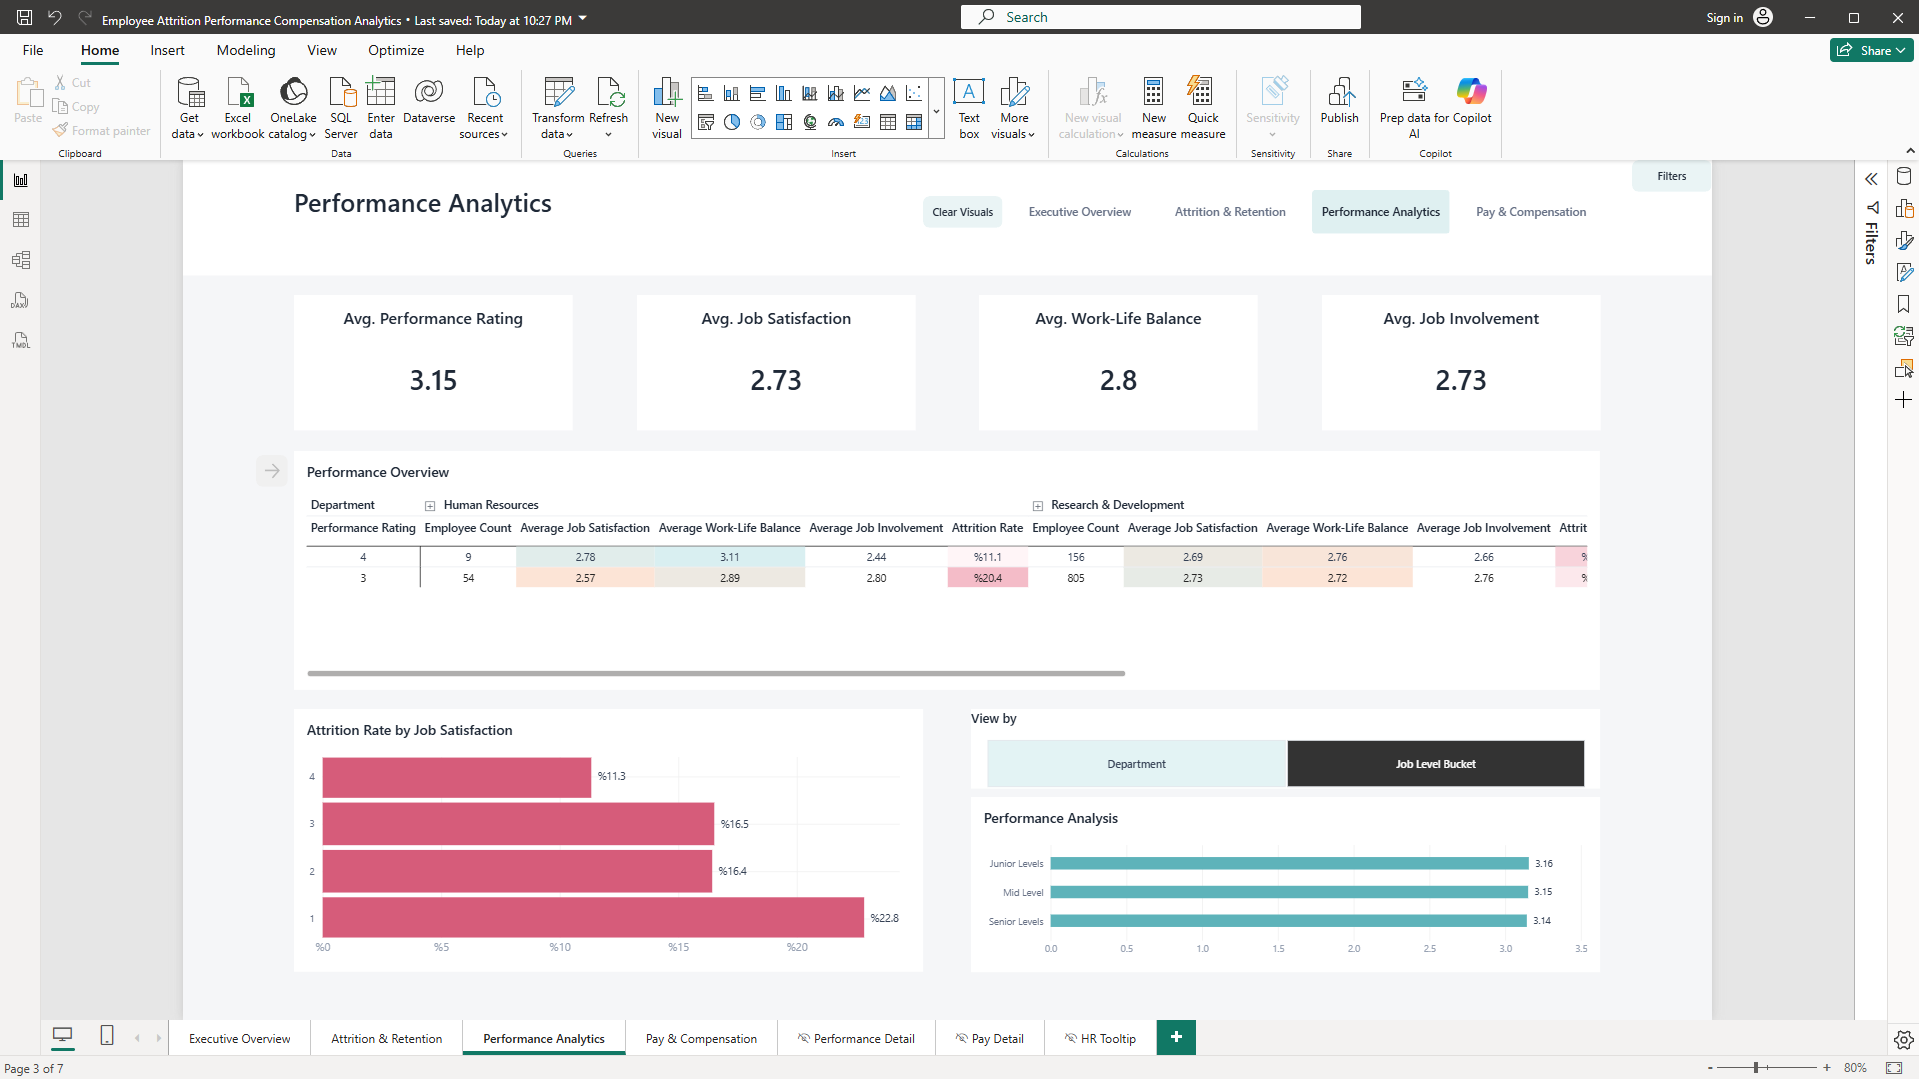

What the dashboard file says about the page in this screenshot:
{"tool":"powerbi","page":{"name":"Performance Analytics","canvas":[1920,1080],"ordinal":2},"visuals":[{"type":"shape","box":[0,0,1920,145],"z":0},{"type":"card","title":"Avg. Performance Rating","fields":{"Values":["Measure Table.Average Performance Rating"]},"box":[140,170,350,170],"z":1000},{"type":"card","title":"Avg. Job Satisfaction","fields":{"Values":["Measure Table.Average Job Satisfaction"]},"box":[570,170,350,170],"z":2000},{"type":"card","title":"Avg. Work-Life Balance","fields":{"Values":["Measure Table.Average Work-Life Balance"]},"box":[1000,170,350,170],"z":3000},{"type":"card","title":"Avg. Job Involvement","fields":{"Values":["Measure Table.Average Job Involvement"]},"box":[1430,170,350,170],"z":4000},{"type":"pivotTable","title":"Performance Overview","fields":{"Columns":["Employee Data.Department","Employee Data.Job Level Bucket"],"Rows":["Employee Data.Performance Rating"],"Values":["Measure Table.Employee Count","Measure Table.Average Job Satisfaction","Measure Table.Average Work-Life Balance","Measure Table.Average Job Involvement","Measure Table.Attrition Rate"]},"box":[140,365,1640,300],"z":5000},{"type":"clusteredBarChart","title":"Attrition Rate by Job Satisfaction","fields":{"Category":["Employee Data.Job Satisfaction"],"Y":["Measure Table.Attrition Rate"]},"box":[140,690,790,330],"z":6000},{"type":"clusteredBarChart","title":"Performance Analysis","fields":{"Category":["Employee Data.Job Level Bucket"],"Y":["Measure Table.Average Performance Rating"]},"box":[990,800,790,220],"z":7000},{"type":"textbox","box":[140,30,850,45],"z":8000},{"type":"pageNavigator","box":[1040,38,740,55],"z":9000},{"type":"slicer","title":"View by","fields":{"Values":["Performance Analysis.Performance Analysis"]},"box":[990,690,790,100],"z":10000},{"type":"actionButton","box":[92,371,40,40],"z":11000},{"type":"actionButton","box":[1820,0,100,40],"z":11001},{"type":"actionButton","box":[929,45,100,40],"z":11009}]}

Visuals, with their boxes on the page's 1920x1080 design canvas (x1, y1, x2, y2). These are canvas units, not pixel positions in the 1919x1079 screenshot, which may show the page scaled, cropped or inside an application window:
shape: Rect(0, 0, 1920, 145)
"Avg. Performance Rating" card: Rect(140, 170, 490, 340)
"Avg. Job Satisfaction" card: Rect(570, 170, 920, 340)
"Avg. Work-Life Balance" card: Rect(1000, 170, 1350, 340)
"Avg. Job Involvement" card: Rect(1430, 170, 1780, 340)
"Performance Overview" pivotTable: Rect(140, 365, 1780, 665)
"Attrition Rate by Job Satisfaction" clusteredBarChart: Rect(140, 690, 930, 1020)
"Performance Analysis" clusteredBarChart: Rect(990, 800, 1780, 1020)
textbox: Rect(140, 30, 990, 75)
pageNavigator: Rect(1040, 38, 1780, 93)
"View by" slicer: Rect(990, 690, 1780, 790)
actionButton: Rect(92, 371, 132, 411)
actionButton: Rect(1820, 0, 1920, 40)
actionButton: Rect(929, 45, 1029, 85)
